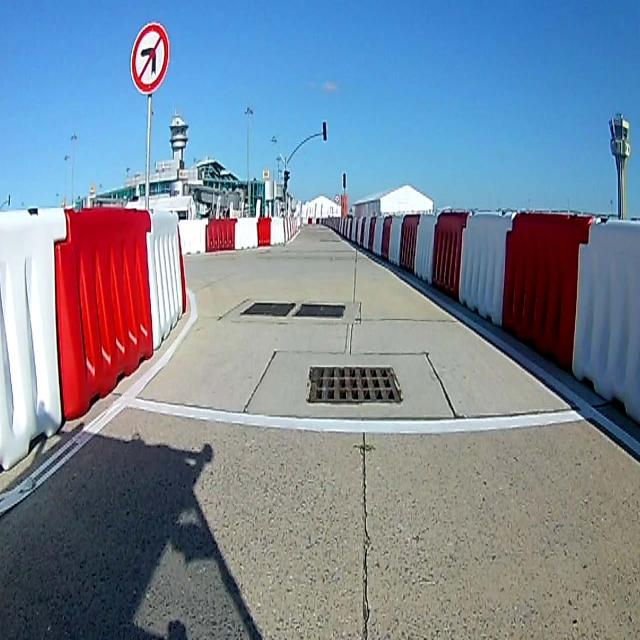soladonulmez: (130, 22, 170, 94)
